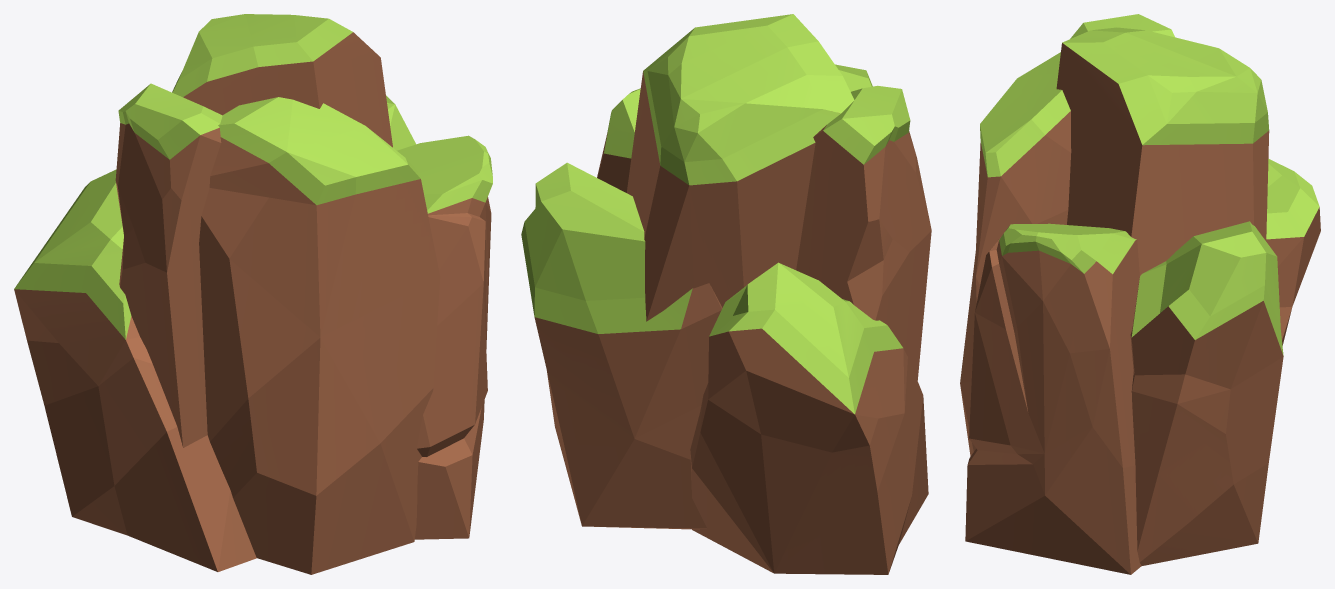
File: Brown_Rock2.obj
The picture shows the model from 3 angles, left to right: view 1: azimuth 30°, elevation 25°; view 2: azimuth 150°, elevation 25°; view 3: azimuth 270°, elevation 25°; orthographic projection. The views are drawn at different scales.
Visible parts, largest first — view 1: PP_Rock_Pile_Forest_Moss_05; view 2: PP_Rock_Pile_Forest_Moss_05; view 3: PP_Rock_Pile_Forest_Moss_05.
Boxes of the visible parts, left/top/right/bottom form: PP_Rock_Pile_Forest_Moss_05: left=14, top=14, right=492, bottom=574; PP_Rock_Pile_Forest_Moss_05: left=521, top=14, right=931, bottom=574; PP_Rock_Pile_Forest_Moss_05: left=960, top=14, right=1320, bottom=574.
Bounding box in the file's own units: 4.61 × 5.57 × 4.02.
1 material, 1 textured.
